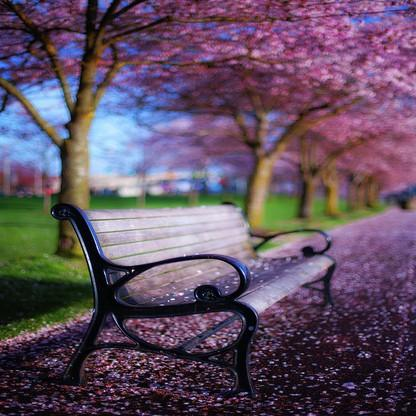obstacle: (55, 195, 347, 384)
